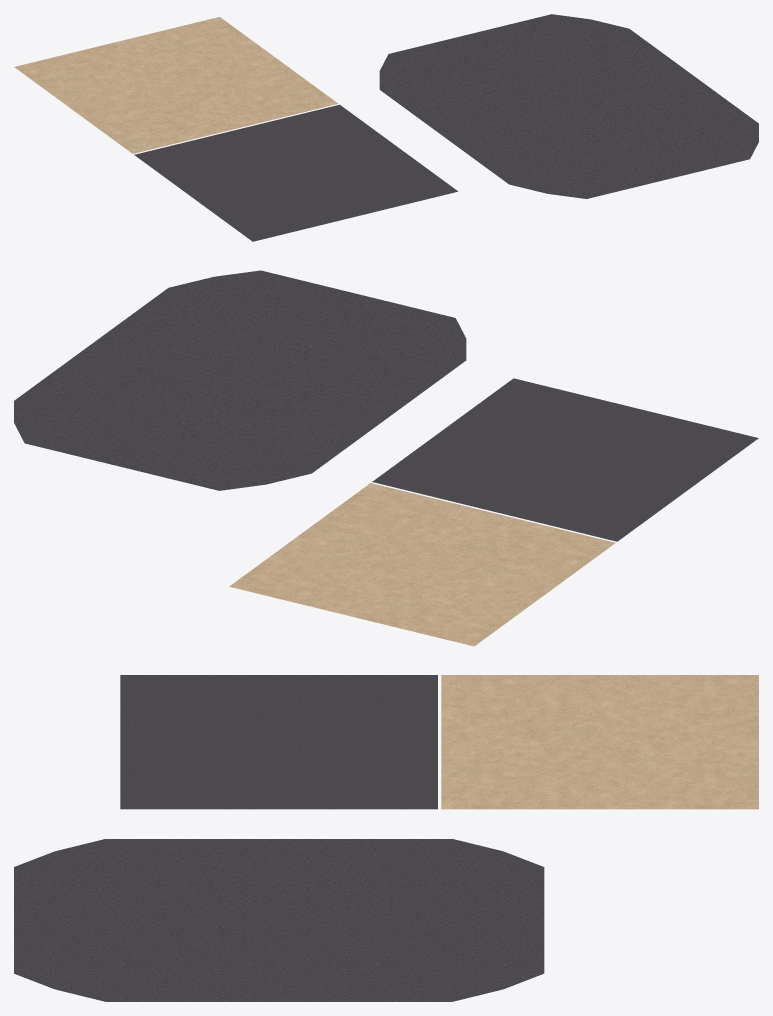
File: Suelo.fbx
3 renders of one model, top to bottom at view 1: azimuth 30°, elevation 25°; view 2: azimuth 150°, elevation 25°; view 3: azimuth 270°, elevation 25°, orthographic. The views are drawn at different scales.
Visible parts, largest first — view 1: Asfalto.001, Arena, Asfalto; view 2: Asfalto.001, Arena, Asfalto; view 3: Asfalto.001, Arena, Asfalto.
Boxes of the visible parts, x1,y1,x2,y2 form: Asfalto.001: [379, 14, 758, 198]; Arena: [14, 17, 338, 153]; Asfalto: [134, 104, 457, 241]; Asfalto.001: [14, 270, 466, 490]; Arena: [229, 483, 615, 646]; Asfalto: [372, 378, 758, 541]; Asfalto.001: [14, 839, 544, 1001]; Arena: [441, 675, 758, 809]; Asfalto: [120, 675, 437, 809].
Size of the model in its own units: 5376 by 0.00036 by 5179.
Materials: 2 (2 with a texture image).
